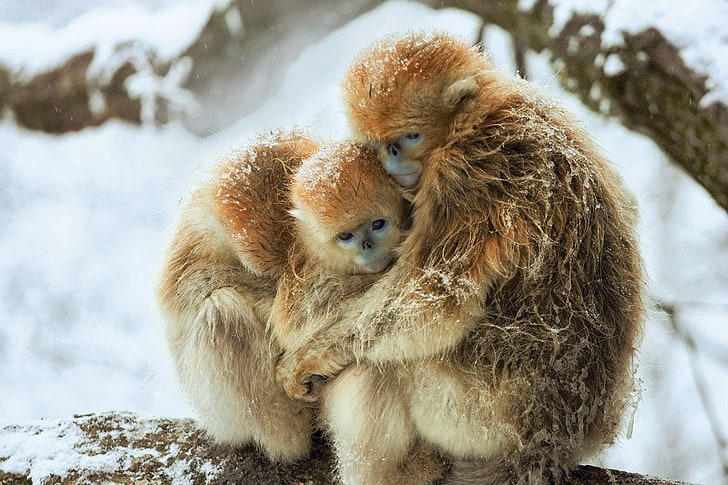GoldenSnub-Nosed: (321, 41, 604, 485), (162, 137, 344, 442), (283, 146, 418, 319)
